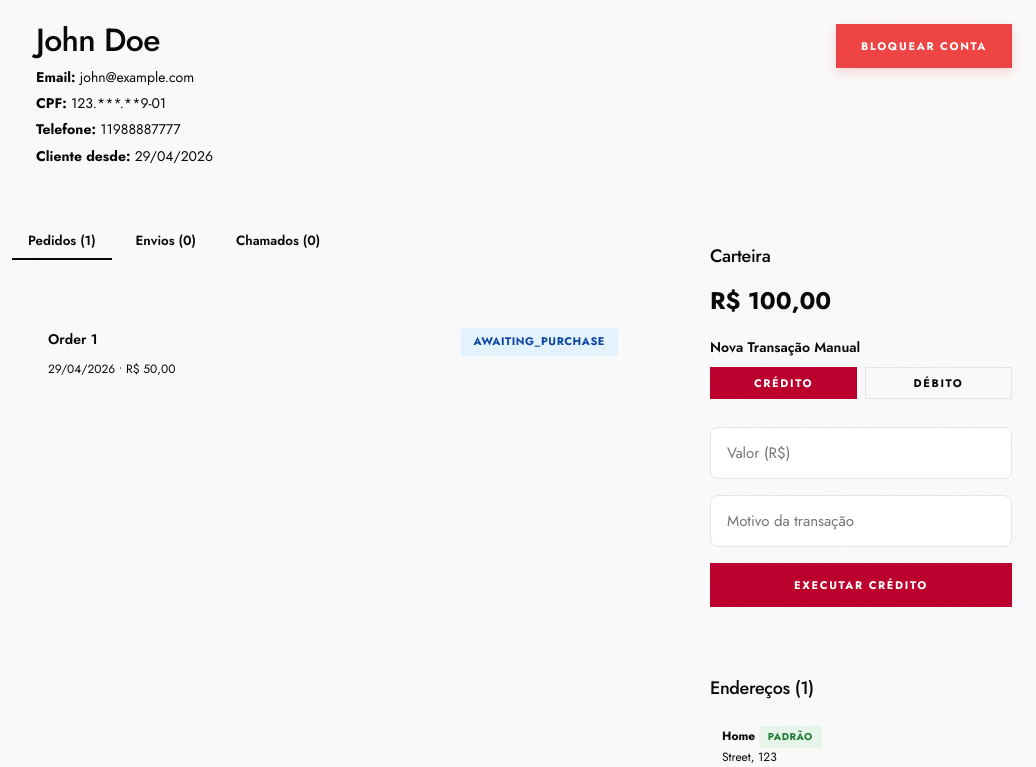
Test case: CustomerDetails Component › deve alternar abas
Click the button "Envios (0)": click(166, 242) [120, 223, 212, 260]
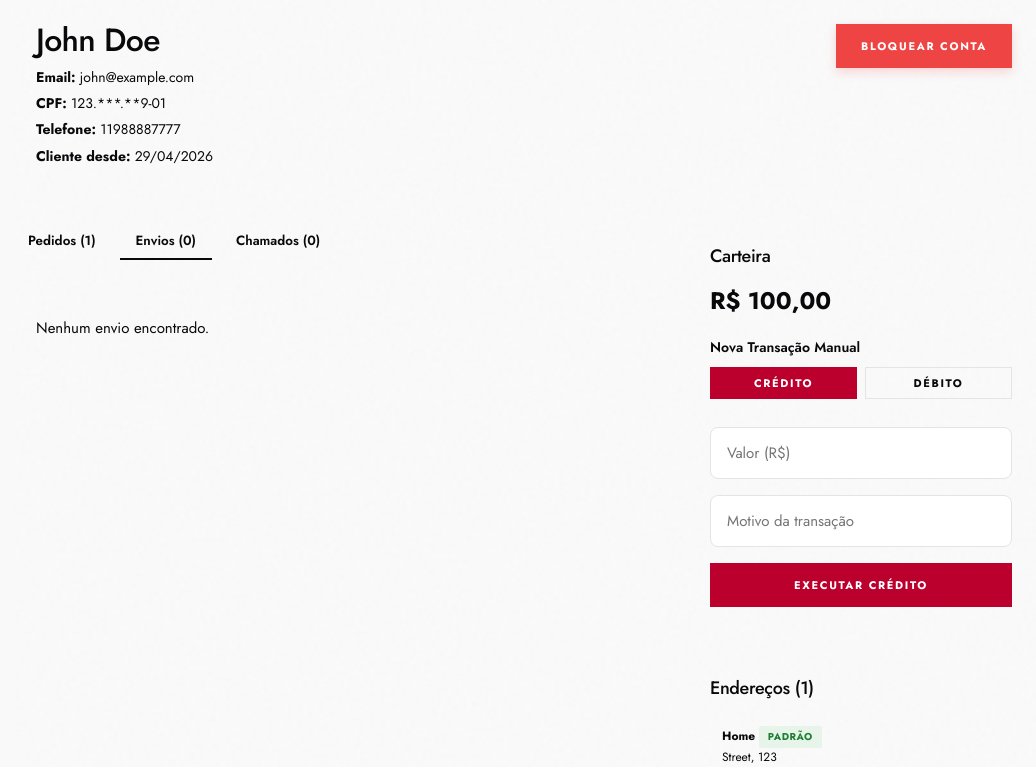
Now the text "Nenhum envio encontrado." is shown, box [36, 317, 209, 339]
